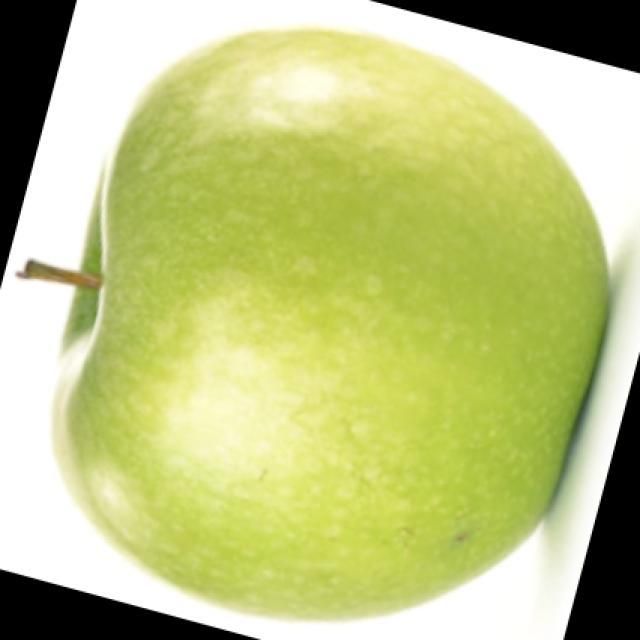Apple: (16, 25, 612, 622)
